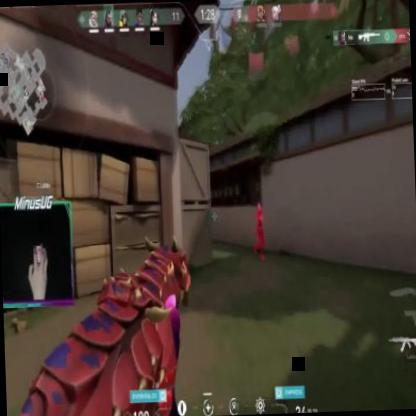enemy: (251, 202, 266, 262)
enemy_head: (256, 202, 262, 214)
